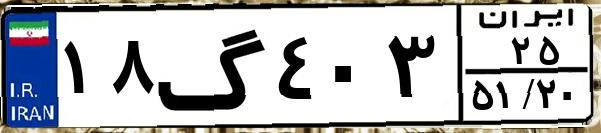0: (330, 28, 385, 110), (560, 70, 590, 125)
1: (57, 26, 110, 100), (495, 70, 520, 125)
2: (508, 27, 537, 80), (535, 70, 560, 125)
3: (385, 28, 445, 110)
4: (270, 28, 330, 110)
5: (537, 27, 568, 80), (470, 70, 495, 125)
8: (110, 28, 156, 98)
گ: (156, 12, 270, 120)
